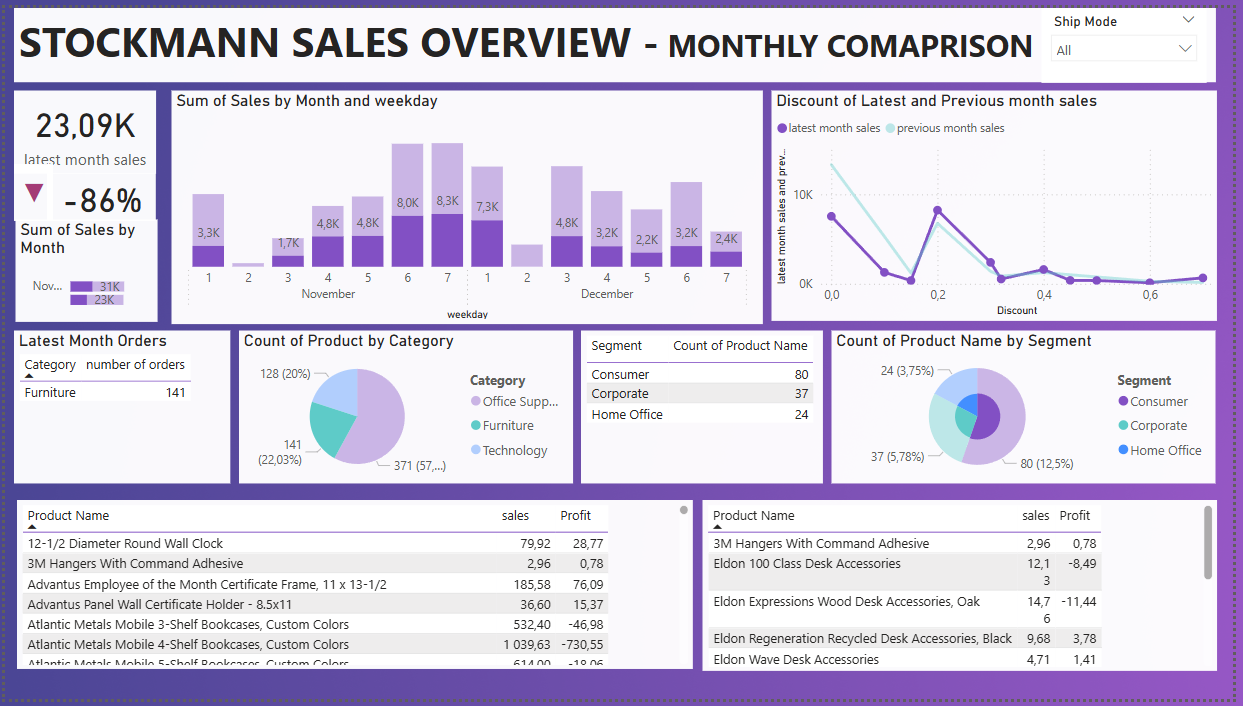

The dashboard page shown, as its layout file describes it:
{"tool":"powerbi","page":{"name":"Page 1","canvas":[1280,720],"ordinal":0},"visuals":[{"type":"textbox","box":[0,0,1279.5,75],"z":0},{"type":"card","fields":{"Values":["Orders.latest month sales"]},"box":[30.2,76.7,147.7,86.4],"z":0,"group":"g1"},{"type":"clusteredBarChart","fields":{"Category":["Orders.Order Date.Variation.Date Hierarchy.Month"],"Y":["Sum(Orders.Sales)"]},"box":[32.5,210.8,147.7,106.8],"z":1000,"group":"g1"},{"type":"card","fields":{"Values":["Orders.profit % diff"]},"box":[64.3,163.1,113.6,50],"z":2000,"group":"g1"},{"type":"clusteredColumnChart","fields":{"Category":["Orders.Order Date.Variation.Date Hierarchy.Month","Orders.weekday"],"Y":["Sum(Orders.Sales)"]},"box":[232.6,93,534.9,239.5],"z":2000},{"type":"lineChart","title":" Discount of Latest and Previous month sales","fields":{"Category":["Orders.Discount"],"Y":["Orders.latest month sales","Orders.previous month sales"]},"box":[797.7,93,465.1,239.5],"z":2001},{"type":"group","id":"g1","title":"Group 1","box":[30.2,76.7,148.8,241.9],"z":2002},{"type":"slicer","fields":{"Values":["Orders.Ship Mode"]},"box":[1080,0,172,78],"z":2003},{"type":"tableEx","title":"Latest Month Orders ","fields":{"Values":["Orders.Category","Orders.Product Name"]},"box":[9.1,336.4,225,159.1],"z":2004},{"type":"pieChart","title":"Count of Product by Category","fields":{"Category":["Orders.Category"],"Y":["CountNonNull(Orders.Product Name)"]},"box":[243.2,336.4,347.7,159.1],"z":2005},{"type":"tableEx","fields":{"Values":["Orders.Segment","Orders.Product Name"]},"box":[600,336.4,252.3,159.1],"z":2006},{"type":"pieChart","fields":{"Category":["Orders.Segment"],"Y":["CountNonNull(Orders.Product Name)"]},"box":[861.4,336.4,400,159.1],"z":2007},{"type":"tableEx","fields":{"Values":["Orders.Product Name","Orders.latest month sales","Orders.latest month profit"]},"box":[11.6,511.6,581.4,176.7],"z":2008},{"type":"tableEx","fields":{"Values":["Orders.Product Name","Orders.latest month sales","Orders.latest month profit"]},"box":[639.5,511.6,623.3,179.1],"z":2009},{"type":"card","fields":{"Values":["Orders.Sales icon"]},"box":[30.2,154,40.9,59.1],"z":3000,"group":"g1"}]}

Visuals, with their boxes in screenshot pixels (x1, y1, x2, y2), scaled from the page's 1280x720 canvas onto the 1243x706 screenshot:
textbox: 0/0/1242/74
card - Orders.latest month sales: 29/75/173/160
clusteredBarChart - Orders.Order Date.Variation.Date Hierarchy.Month x Sum(Orders.Sales): 32/207/175/311
card - Orders.profit % diff: 62/160/173/209
clusteredColumnChart - Orders.Order Date.Variation.Date Hierarchy.Month x Orders.weekday: 226/91/745/326
" Discount of Latest and Previous month sales" lineChart: 775/91/1226/326
"Group 1" group: 29/75/174/312
slicer - Orders.Ship Mode: 1049/0/1216/76
"Latest Month Orders " tableEx: 9/330/227/486
"Count of Product by Category" pieChart: 236/330/574/486
tableEx - Orders.Segment x Orders.Product Name: 583/330/828/486
pieChart - Orders.Segment x CountNonNull(Orders.Product Name): 837/330/1225/486
tableEx - Orders.Product Name x Orders.latest month sales: 11/502/576/675
tableEx - Orders.Product Name x Orders.latest month sales: 621/502/1226/677
card - Orders.Sales icon: 29/151/69/209
